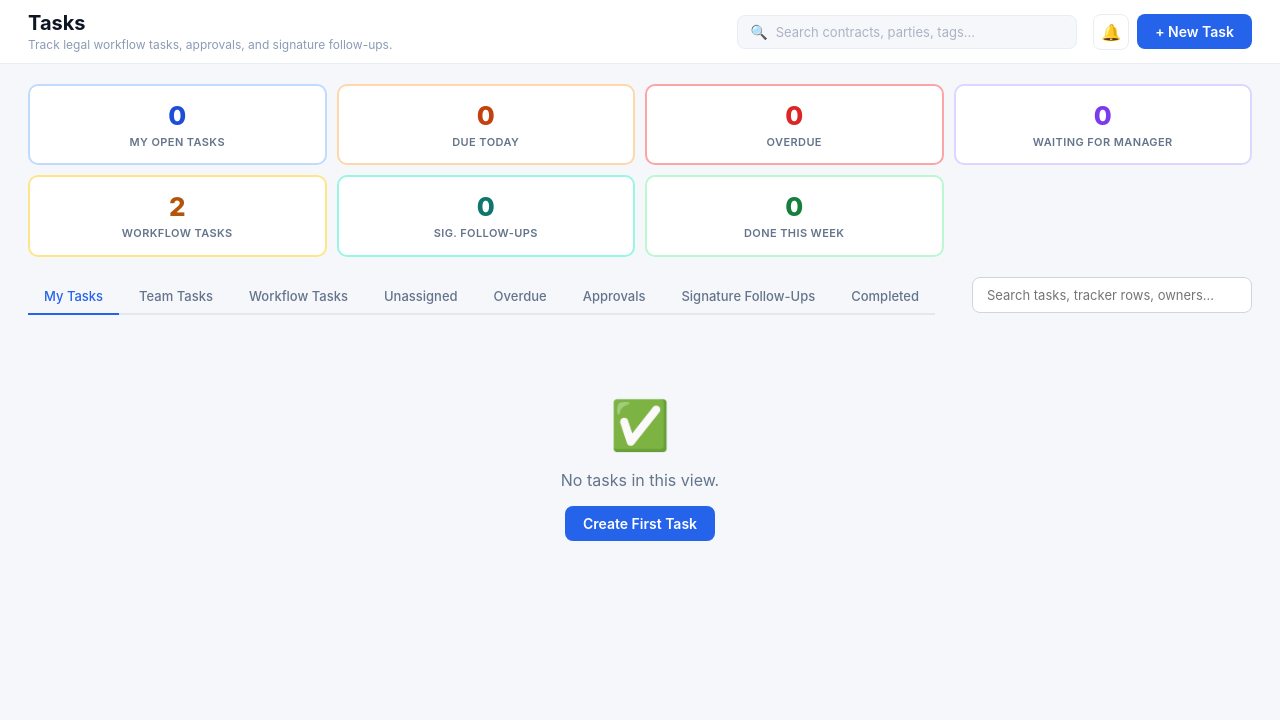
(tf-4) Unassigned shows items without assignee
The image size is (1280, 720).
Click the button "Unassigned".
click(421, 297)  # box [368, 279, 474, 315]
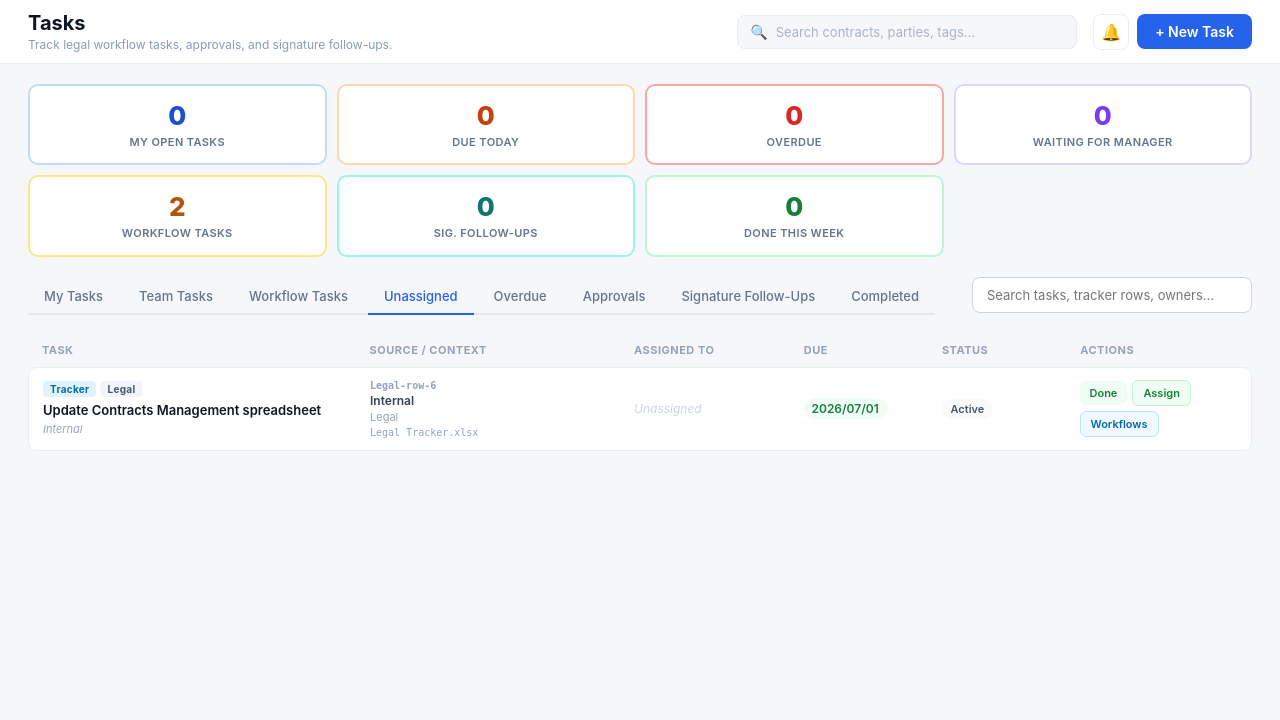
Expected: the number of elements with class "tl__row" is 1, [28, 367, 1252, 451]
